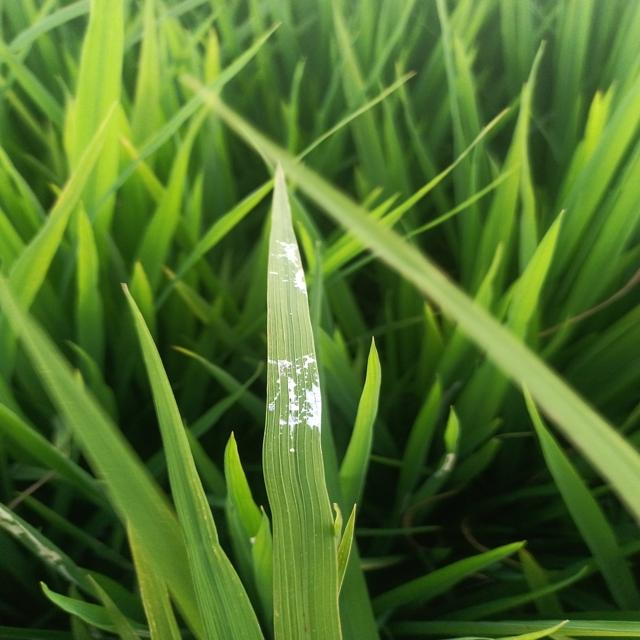brown plant hopper: (436, 436, 458, 491)
